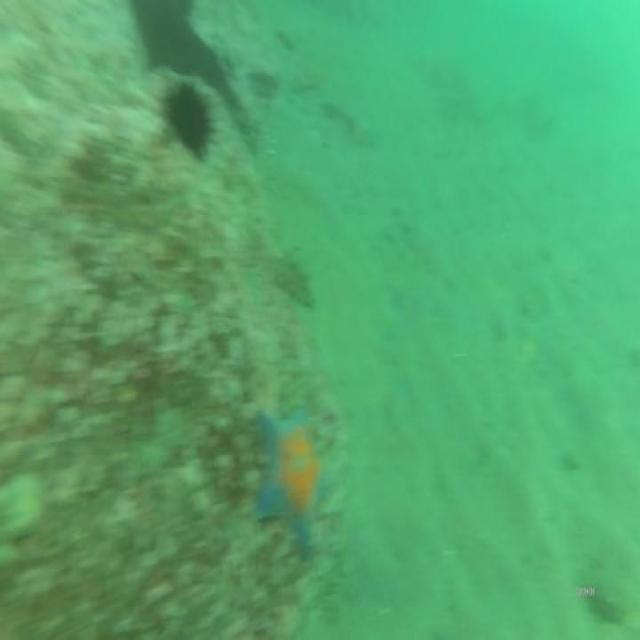echinus: (156, 71, 220, 166)
holothurian: (276, 242, 314, 308)
starfish: (254, 397, 336, 556)
